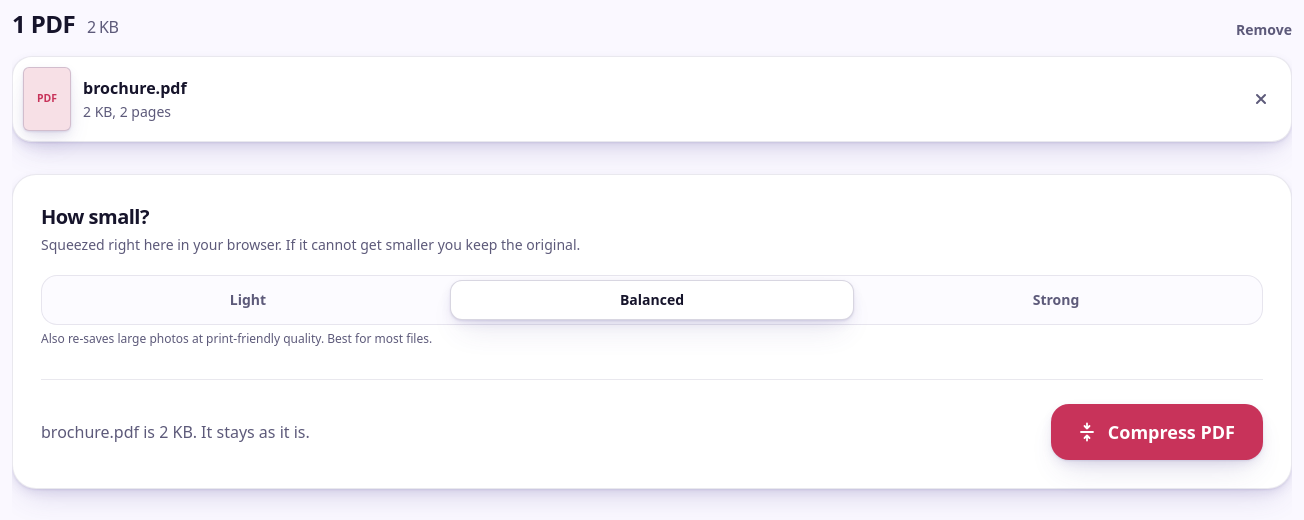
it: CompressTool › starts on balanced and explains each level
Earlier steps of the test are not shown.
Expected: the button "Compress PDF" is shown, [1051,404,1263,460]
Expected: the radio button labelled "Balanced" is checked, [450,280,854,320]
Click the radio button labelled "Light": (248, 300) [230,290,266,309]
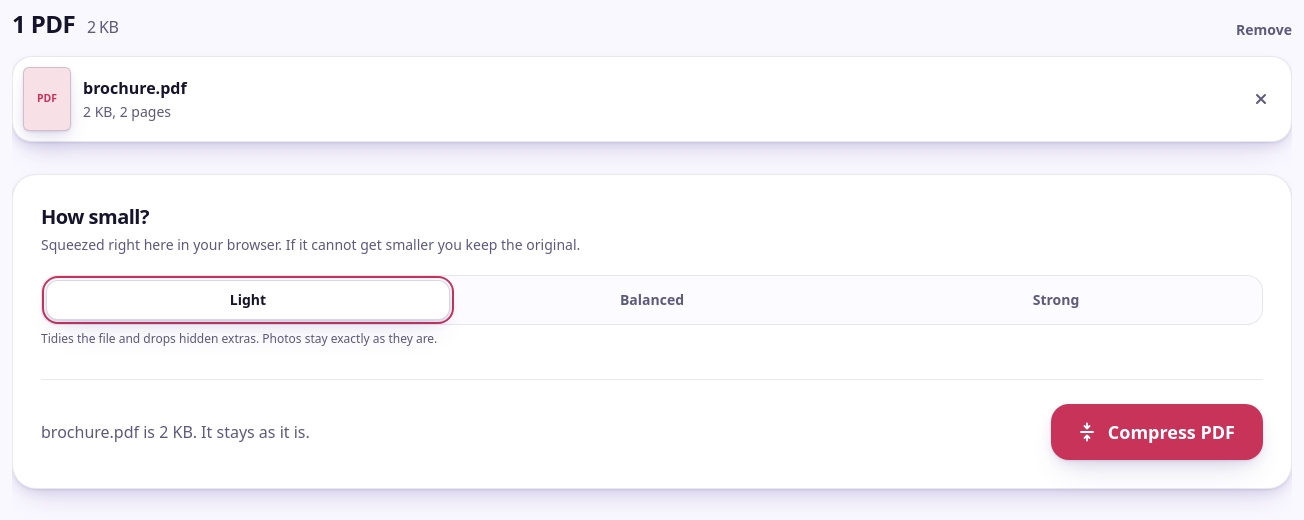
Expected: the text "brochure.pdf is 2 KB. It stays as it is." is shown, [41,420,310,444]
Now the text "Photos stay exactly as they are" is shown, box [41,330,437,347]
